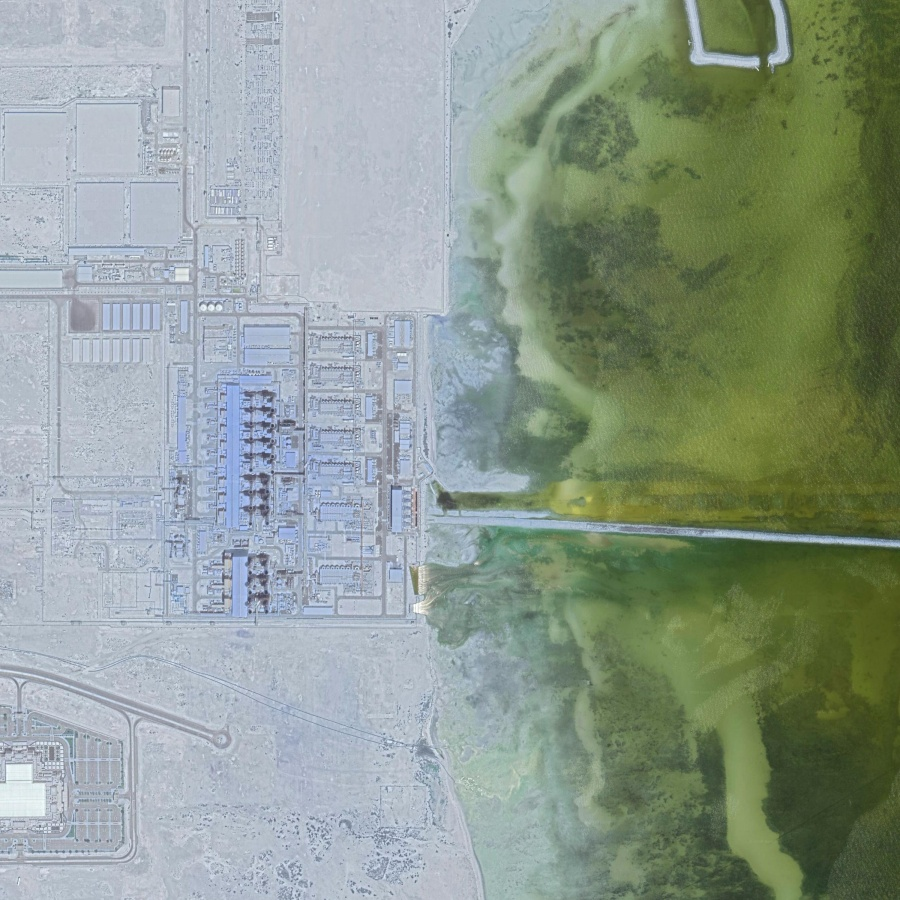PowerPlant: (188, 292, 448, 618)
